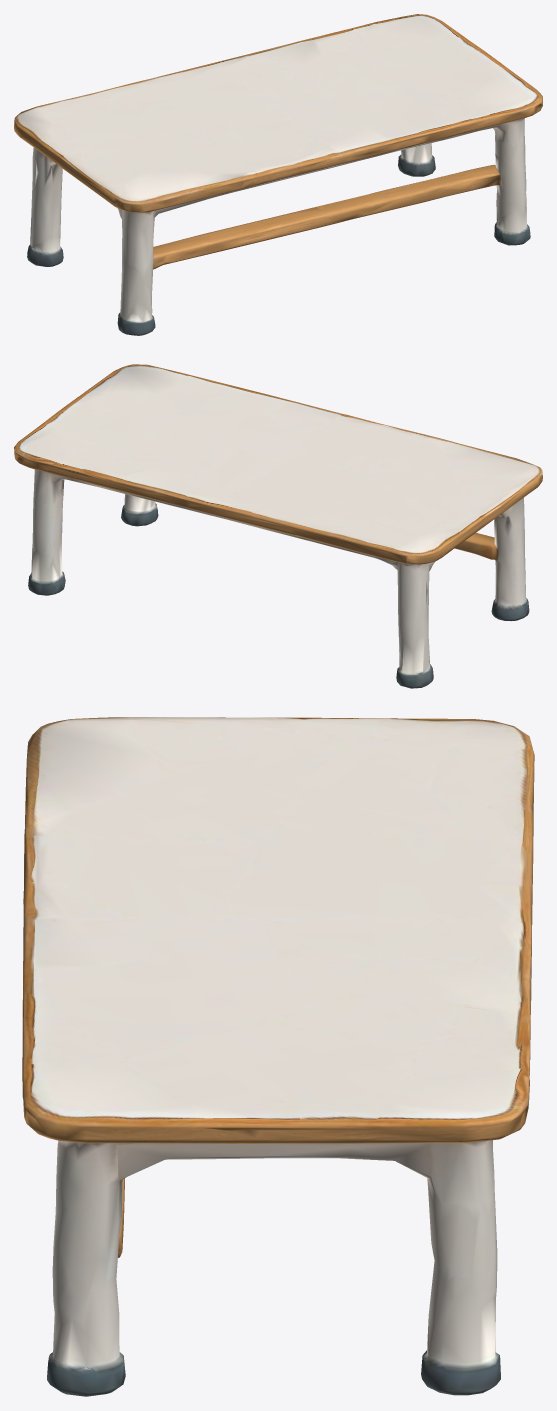
Rendered from craft-table.low.glb.
3 views of the same model, one above another, from view 1: azimuth 30°, elevation 25°; view 2: azimuth 150°, elevation 25°; view 3: azimuth 270°, elevation 25° (orthographic). The views are drawn at different scales.
Parts seen in each view (by area): view 1: tripo_node_040dea08-ea7b-47ad-a03e-5abffffe8451; view 2: tripo_node_040dea08-ea7b-47ad-a03e-5abffffe8451; view 3: tripo_node_040dea08-ea7b-47ad-a03e-5abffffe8451.
Boxes of the visible parts, x1,y1,x2,y2 form: tripo_node_040dea08-ea7b-47ad-a03e-5abffffe8451: (14, 14, 542, 335); tripo_node_040dea08-ea7b-47ad-a03e-5abffffe8451: (14, 364, 542, 688); tripo_node_040dea08-ea7b-47ad-a03e-5abffffe8451: (22, 717, 534, 1396).
Bounding box in the file's own units: 2.3 × 0.7486 × 1.2.
1 material, 1 textured.
